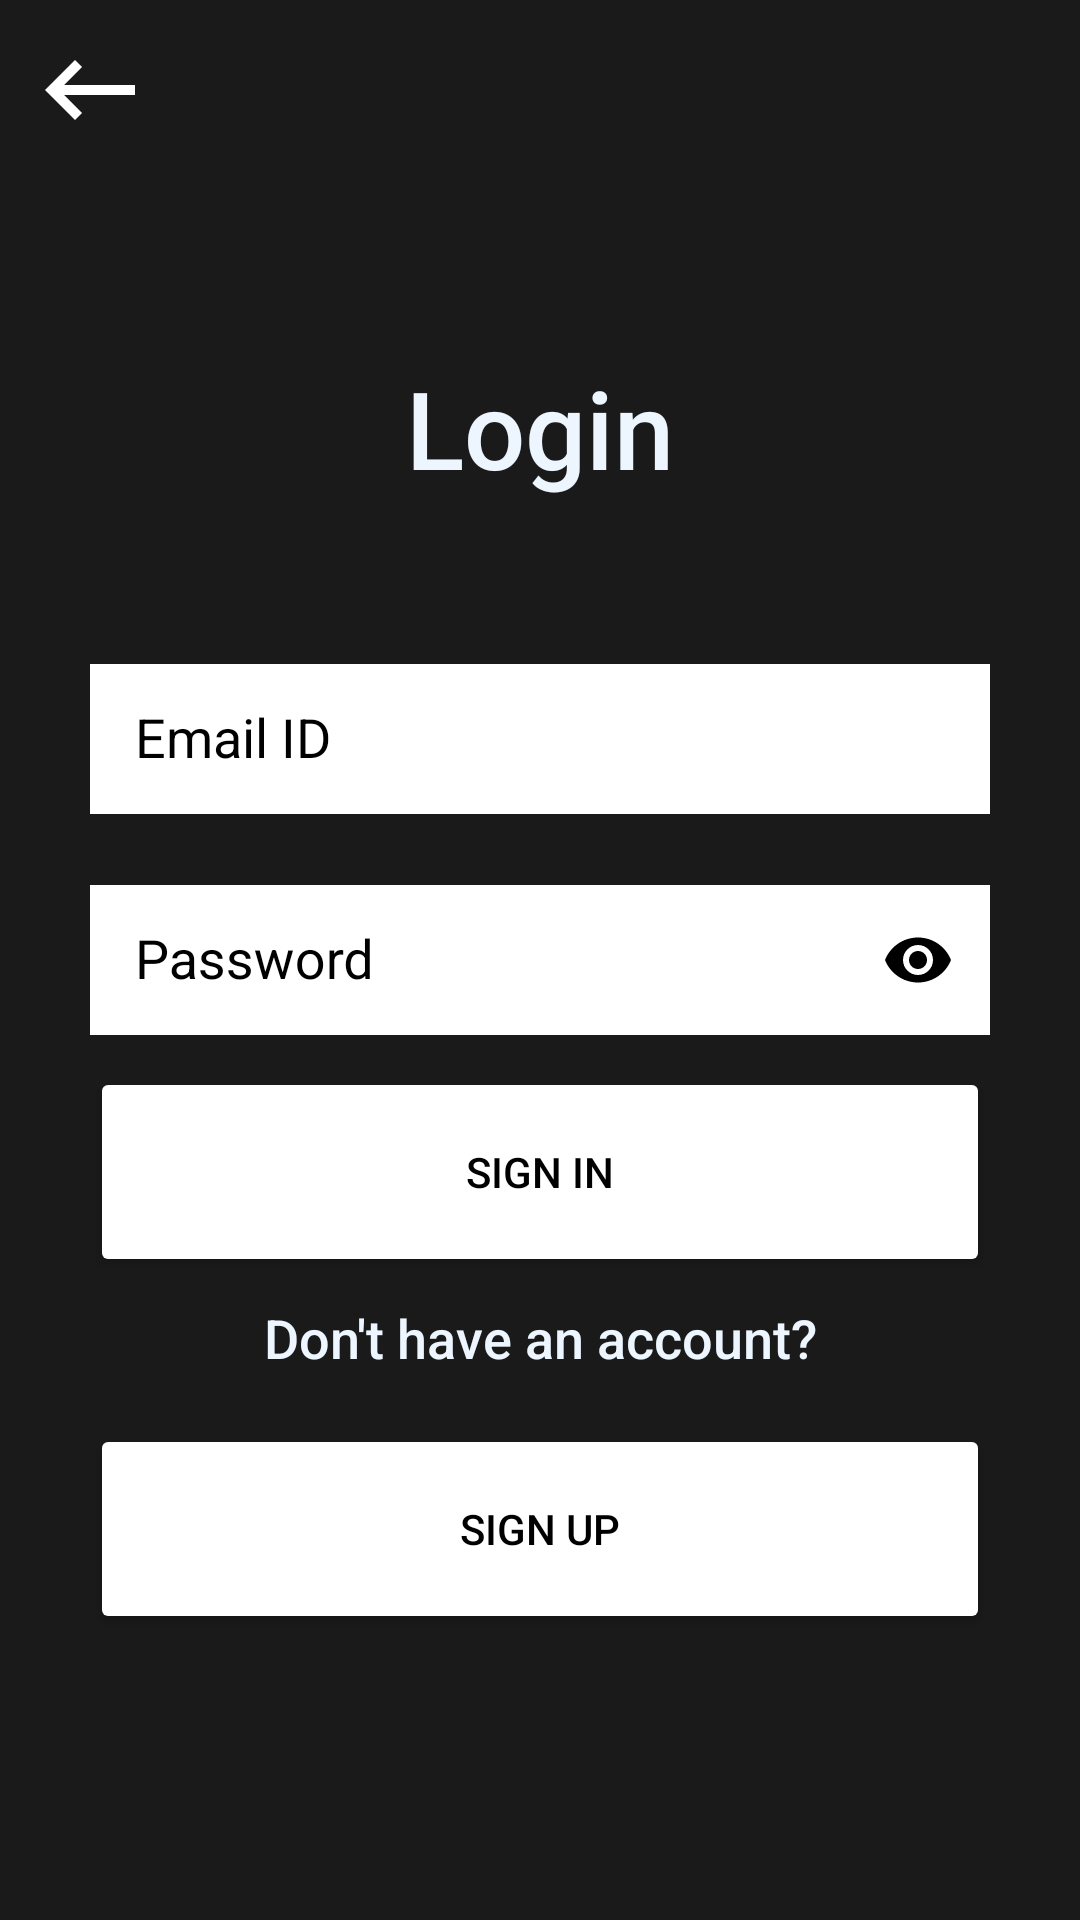

Icons on this 1080px×1920px Android screen, each with the point to tap as (x,y):
back Arrow: (90,90)
